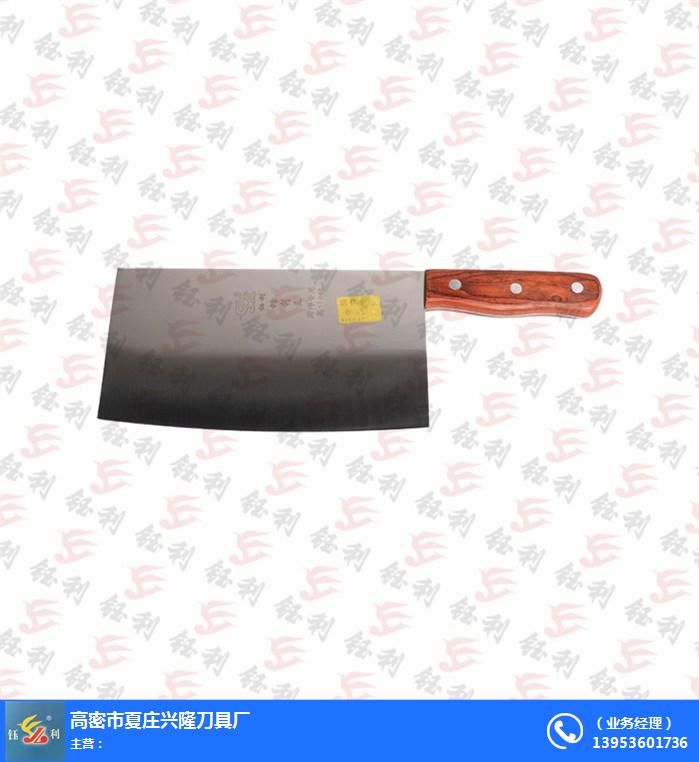knief: (71, 234, 606, 453)
